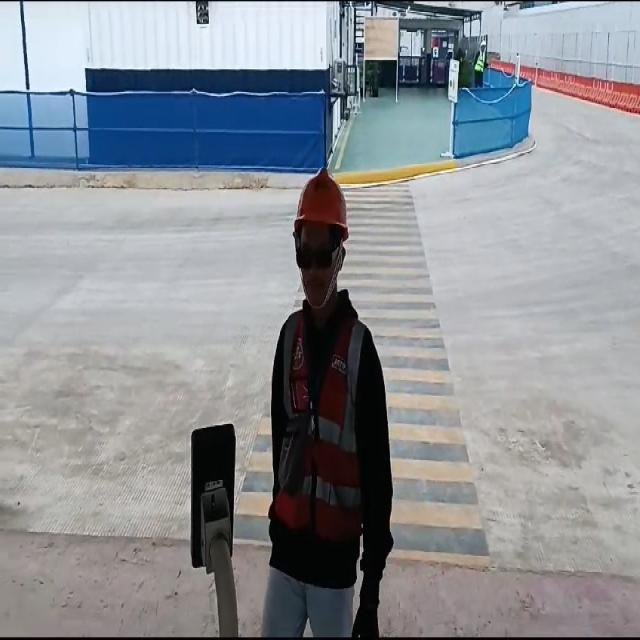gloves: (351, 606, 383, 640)
goggles: (289, 239, 336, 276)
helmet: (293, 175, 351, 237)
safety_vest: (268, 309, 367, 536)
